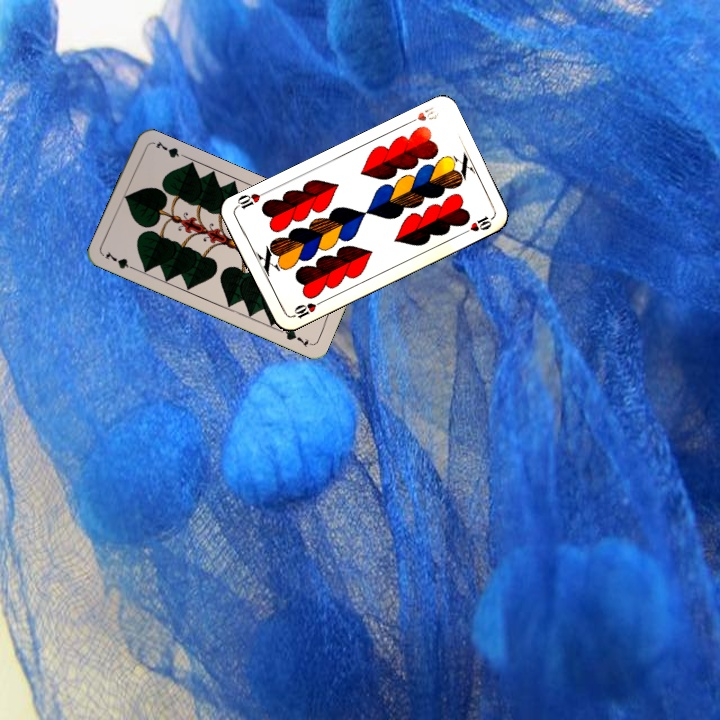G7: (101, 247, 139, 273)
H10: (402, 102, 442, 127), (286, 297, 325, 321)
